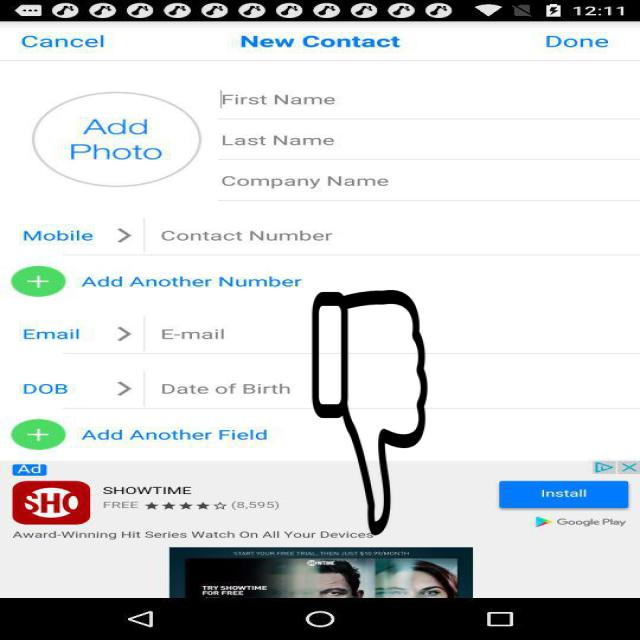obstruction: (311, 290, 429, 535)
